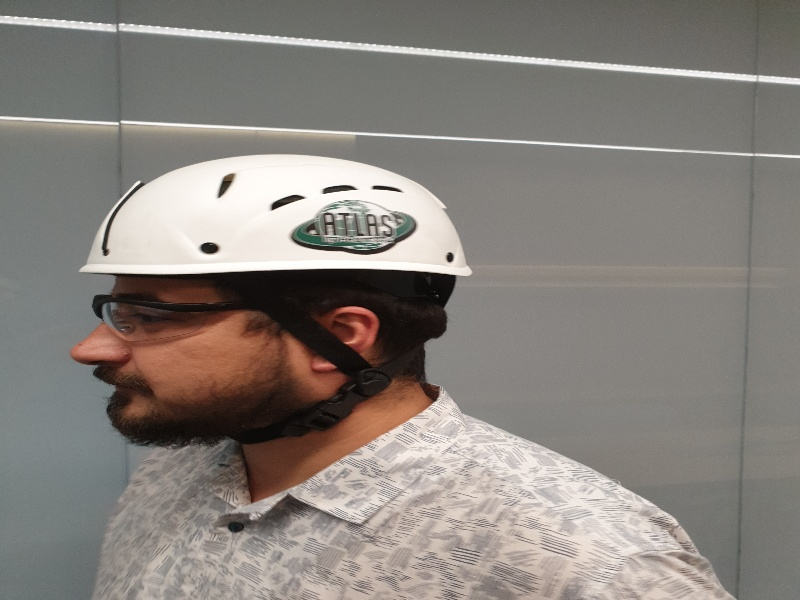Baret: (77, 153, 473, 275)
Gozluk: (91, 294, 322, 341)
